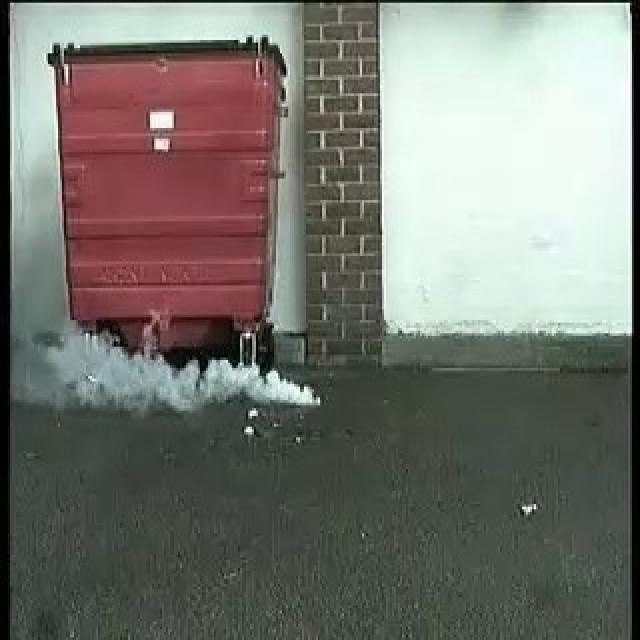smoke: (26, 325, 322, 410)
